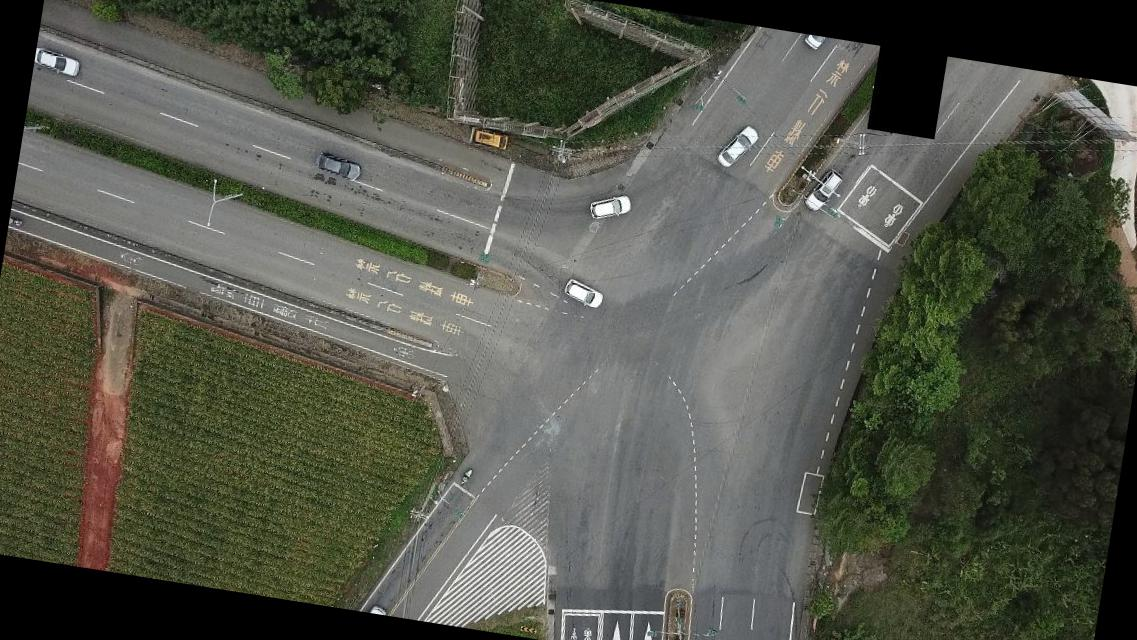vehicle: (713, 122, 759, 171), (802, 166, 842, 214), (314, 148, 364, 182), (33, 44, 83, 78), (586, 189, 634, 222), (560, 275, 606, 309), (472, 125, 510, 150), (800, 33, 826, 56)
